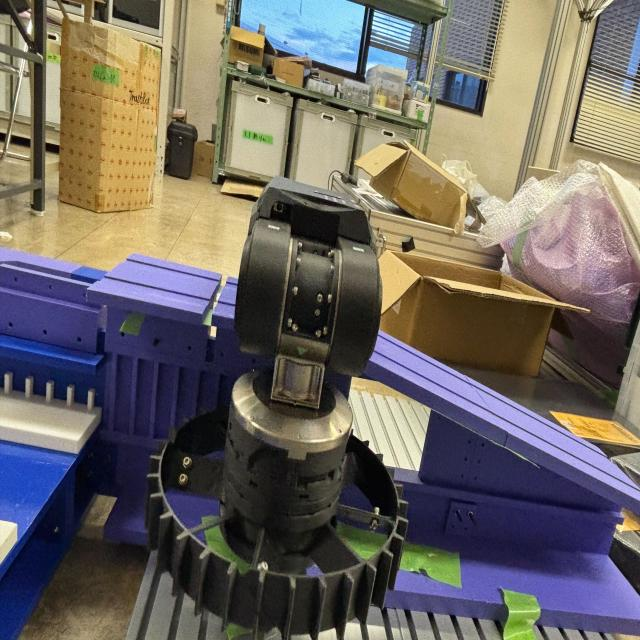limb: (236, 266, 640, 640), (261, 305, 640, 640)
